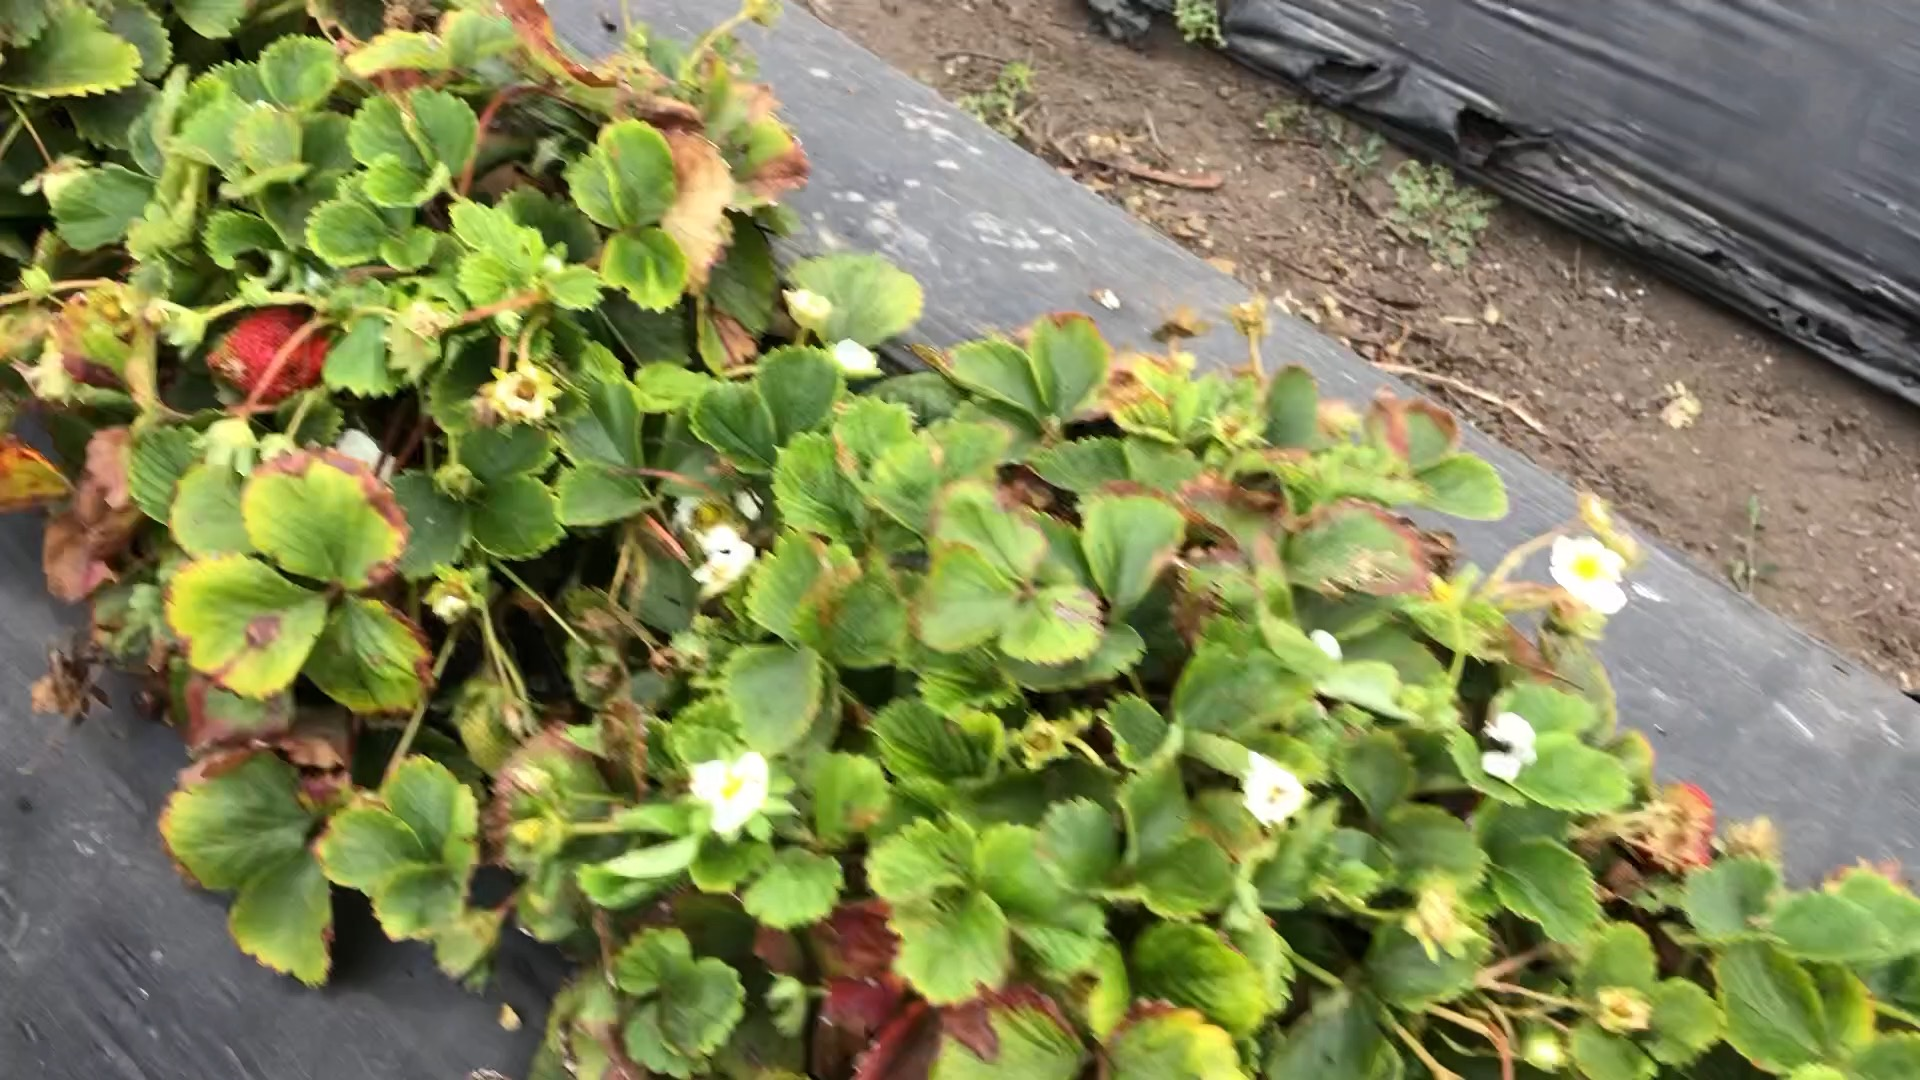ripe_strawberry: (206, 306, 332, 404)
